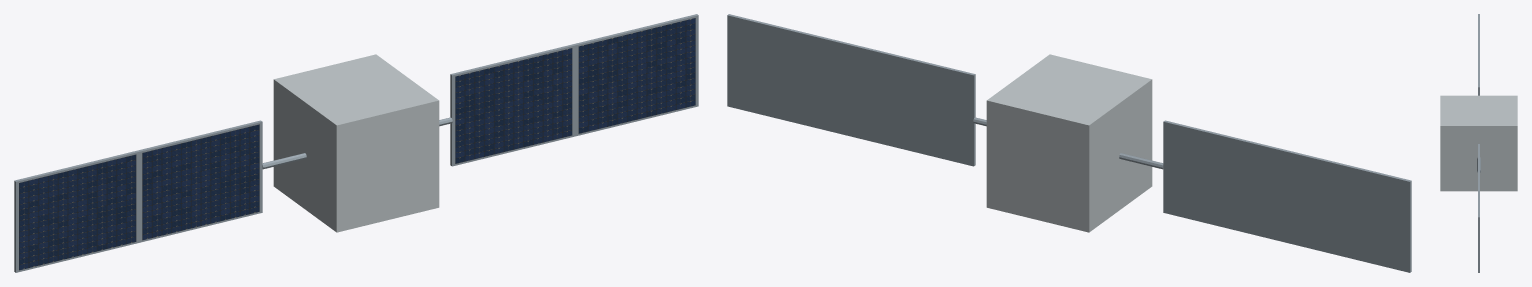
File: ref-i1k-42928.glb
3 renders of one model, left to right at view 1: azimuth 30°, elevation 25°; view 2: azimuth 150°, elevation 25°; view 3: azimuth 270°, elevation 25°, orthographic. The views are drawn at different scales.
Parts seen in each view (by area): view 1: Photovoltaic laminates (×4), Spacecraft body, Array frame (×4); view 2: Array frame (×4), Spacecraft body; view 3: Spacecraft body, Array frame (×4).
Part boxes in pixels (x1,y1,x2,y2): Photovoltaic laminates (×4): (19,18,695,270); Spacecraft body: (273,54,439,232); Array frame (×4): (14,14,698,272); Array frame (×4): (727,14,1411,272); Spacecraft body: (986,54,1152,232); Spacecraft body: (1440,95,1517,191); Array frame (×4): (1478,14,1479,272).
Size of the model in its own units: 10 by 1.5 by 1.6.
3 materials, 1 textured.
